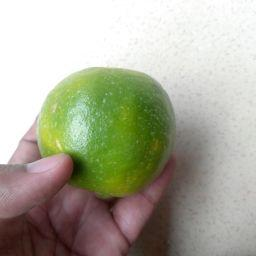Unripe: (47, 67, 176, 181)
